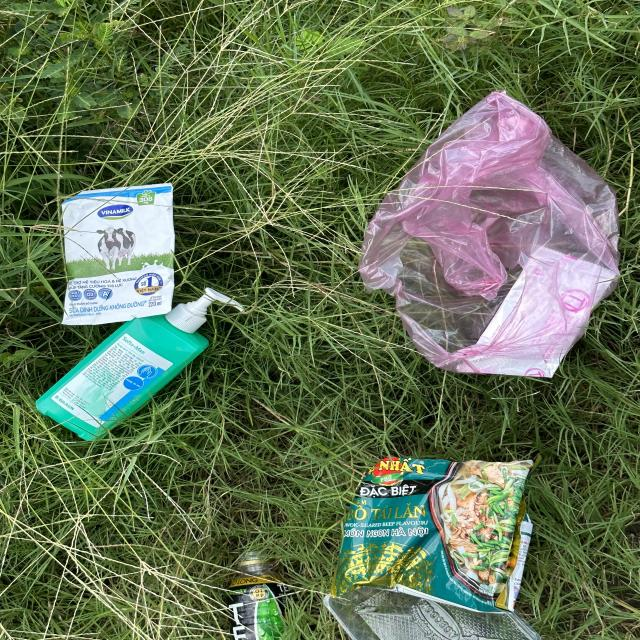bag: (355, 87, 622, 378)
bottle: (34, 286, 246, 441), (223, 558, 284, 640)
milk box: (346, 460, 534, 612)
packet: (60, 185, 175, 325)
plastic holder: (321, 593, 541, 640)
